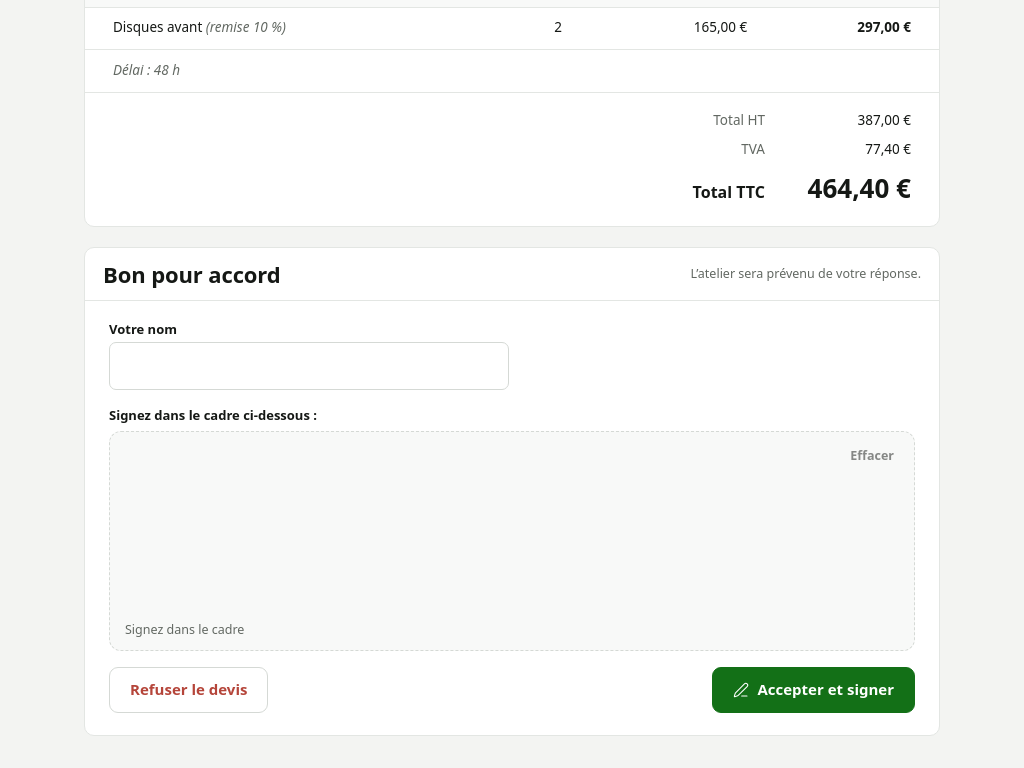
Test: devis en ligne (client, sans compte) › accepter demande le nom puis la signature
(page scrolled)
Click the button "Accepter et signer".
click(814, 690)  # box [712,667,915,713]
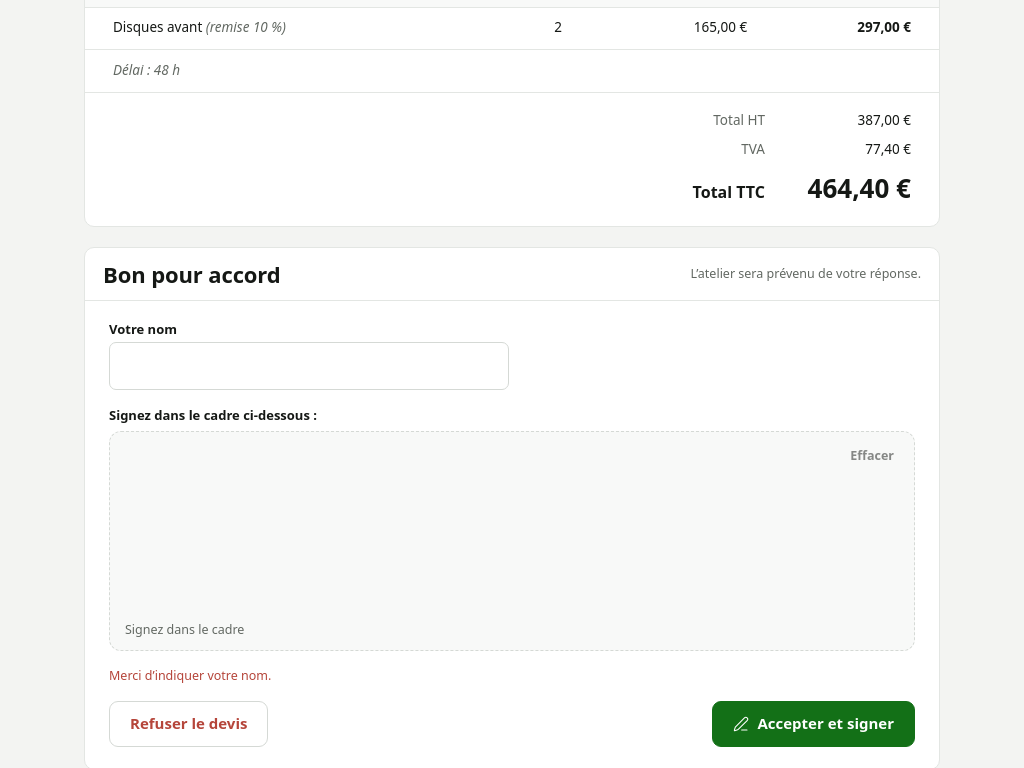
expect the message reads "Merci d’indiquer votre nom.": met, box [109,667,271,684]
Type "Jean Martin" into the field labelled "Votre nom".
click(309, 366); type("Jean Martin")  # box [109,342,509,390]
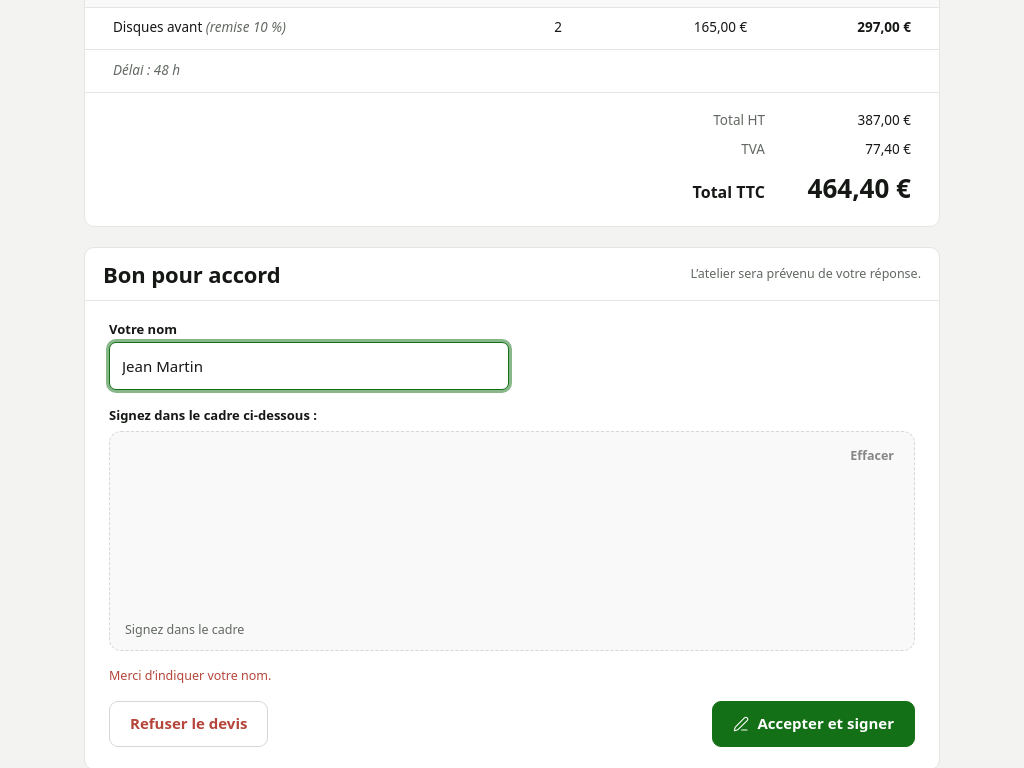
Click the button "Accepter et signer".
click(814, 724)  # box [712,701,915,747]
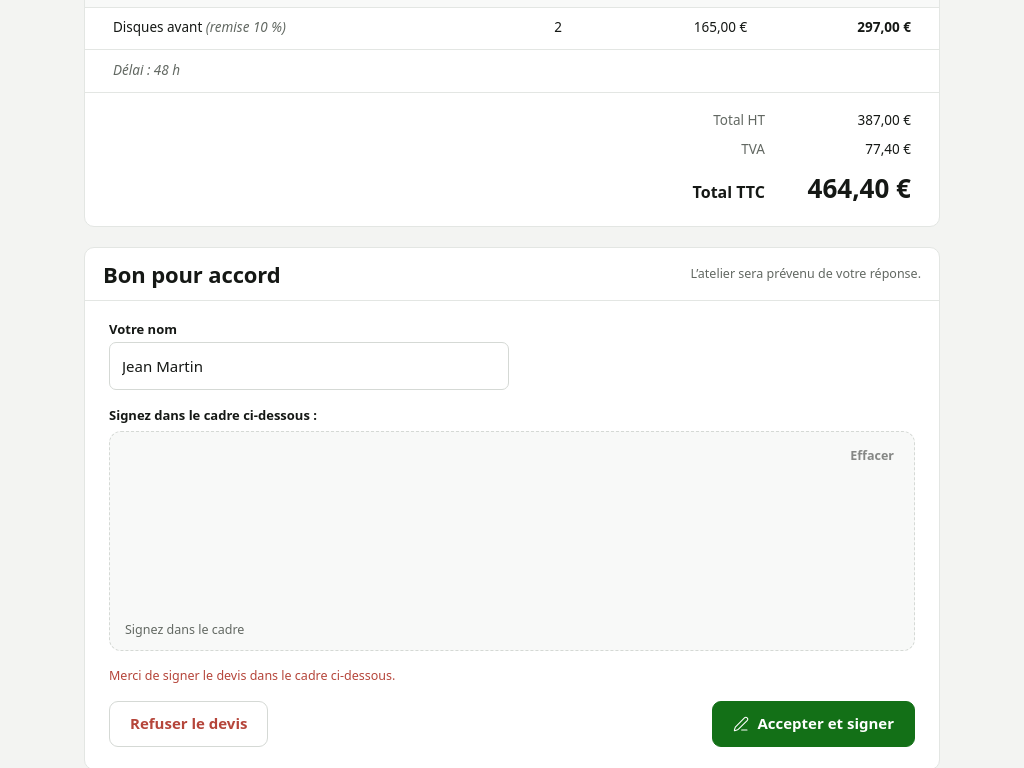
expect the message shows "Merci de signer le devis": met, box [109,667,395,684]
